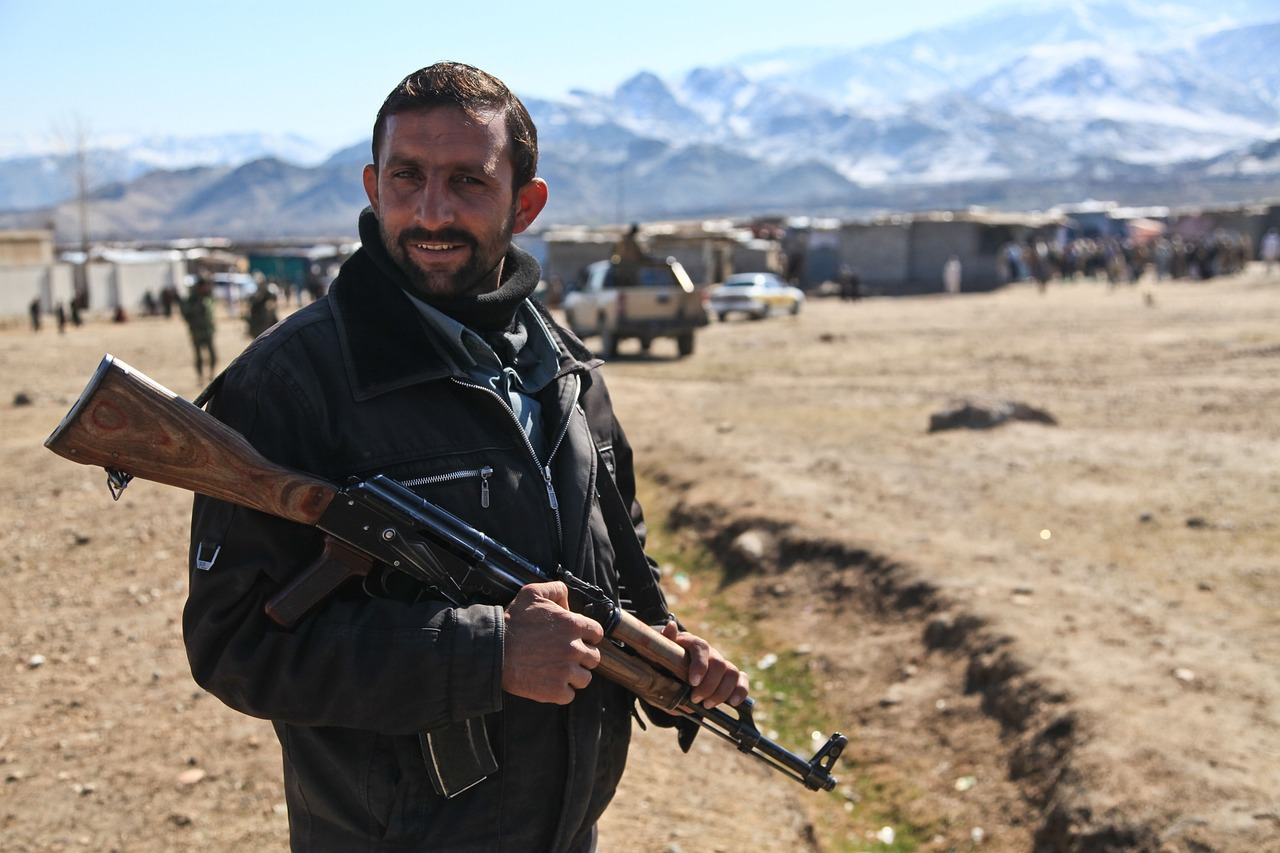gun: (40, 347, 851, 795)
